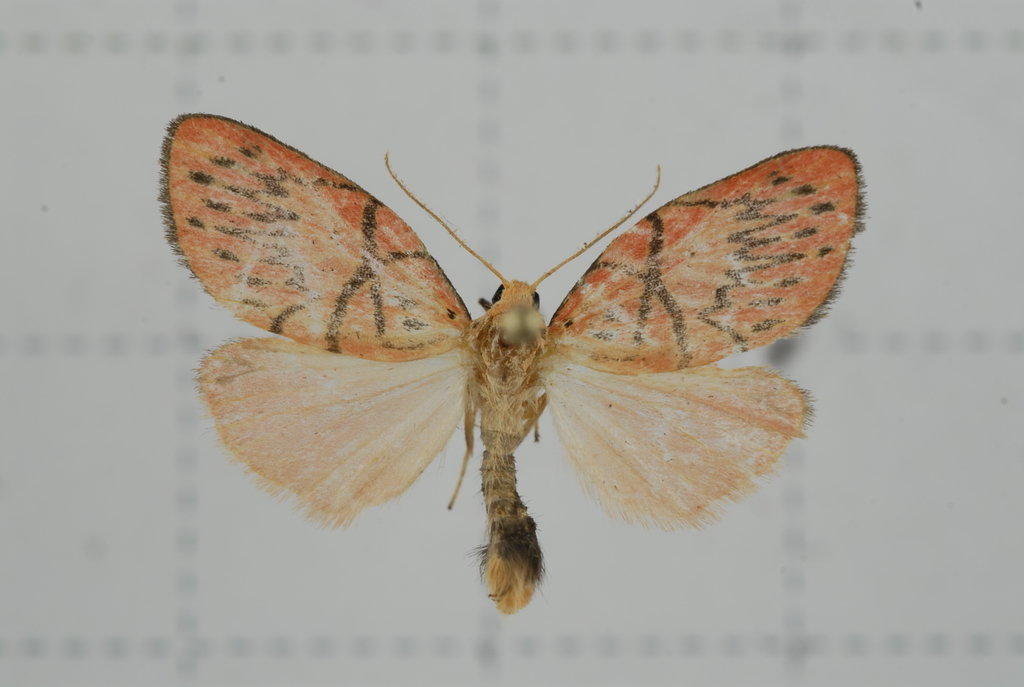Butterfly: (135, 72, 861, 623)
